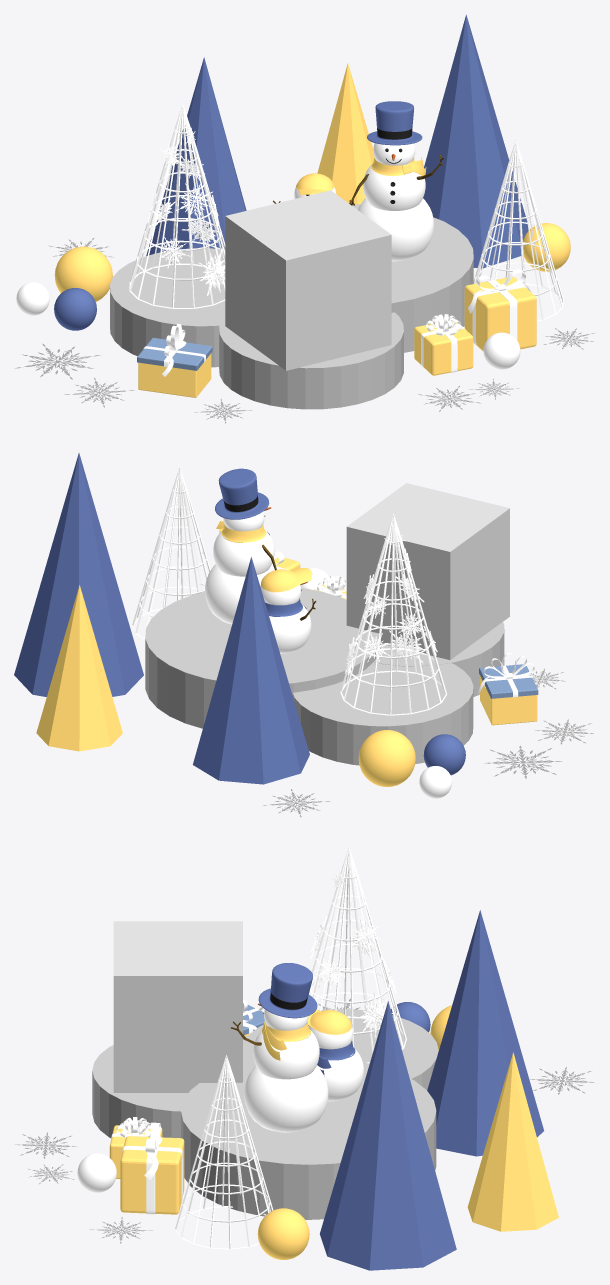
Rendered from snowman_christmas.glb.
3 renders of one model, top to bottom at view 1: azimuth 30°, elevation 25°; view 2: azimuth 150°, elevation 25°; view 3: azimuth 270°, elevation 25°, orthographic. The views are drawn at different scales.
Parts seen in each view (by area): view 1: placeholder, Cube010, Cylinder007, Cylinder008, Cube016, Cylinder005, Cube003, Sphere035, Cube018, Cube021, Cube013, Cube003_1 (+15 smaller); view 2: placeholder, Cube016, Cylinder005, Cube010, Cylinder008, Cube021, Cube003, Sphere035, Cube018, Sphere021, Cylinder007, Cube003_1 (+11 smaller); view 3: placeholder, Cube010, Cylinder005, Cube016, Cube021, Sphere035, Cube018, Cube003, Cylinder007, Cube013, Cylinder008, Plane049_1 (+11 smaller).
Part boxes in pixels (<box>): placeholder: <box>225,190,391,370</box>; Cube010: <box>423,14,528,268</box>; Cylinder007: <box>219,312,403,409</box>; Cylinder008: <box>110,248,225,367</box>; Cube016: <box>146,57,246,255</box>; Cylinder005: <box>352,204,473,352</box>; Cube003: <box>129,103,225,308</box>; Sphere035: <box>358,143,433,261</box>; Cube018: <box>473,140,563,321</box>; Cube021: <box>317,63,374,204</box>; Cube013: <box>464,276,536,351</box>; Cube003_1: <box>147,127,225,295</box>; placeholder: <box>346,483,509,659</box>; Cube016: <box>193,557,309,784</box>; Cylinder005: <box>145,587,380,728</box>; Cube010: <box>14,453,143,696</box>; Cylinder008: <box>292,662,473,765</box>; Cube021: <box>36,585,122,751</box>; Cube003: <box>340,513,447,715</box>; Sphere035: <box>205,511,274,624</box>; Cube018: <box>132,466,210,640</box>; Sphere021: <box>358,730,415,786</box>; Cylinder007: <box>373,622,504,696</box>; Cube003_1: <box>344,535,437,674</box>; placeholder: <box>113,921,242,1092</box>; Cube010: <box>320,1001,456,1270</box>; Cylinder005: <box>181,1062,436,1219</box>; Cube016: <box>427,910,543,1156</box>; Cube021: <box>467,1052,558,1231</box>; Sphere035: <box>244,1009,328,1132</box>; Cube018: <box>175,1054,273,1249</box>; Cube003: <box>310,847,406,1063</box>; Cylinder007: <box>92,1035,255,1138</box>; Cube013: <box>120,1136,184,1214</box>; Cylinder008: <box>248,1009,438,1090</box>; Plane049_1: <box>258,963,317,1018</box>.
Size of the model in its own units: 2.84 by 1.18 by 2.56.
